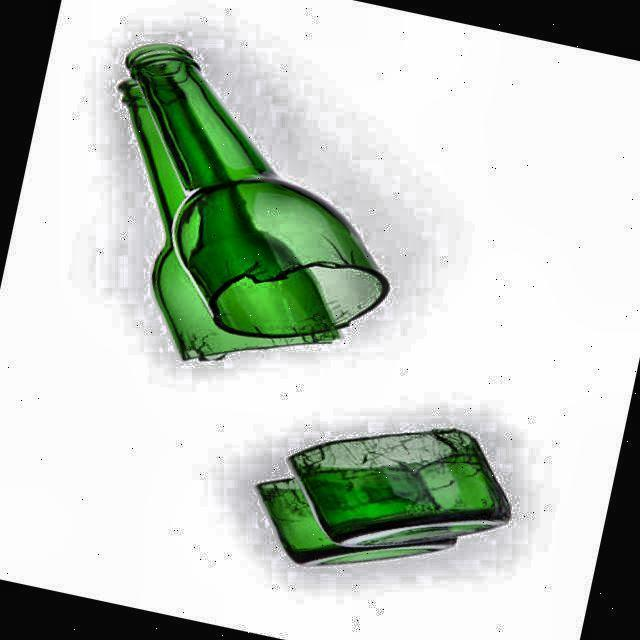glass: (125, 44, 389, 338), (291, 429, 510, 548)
